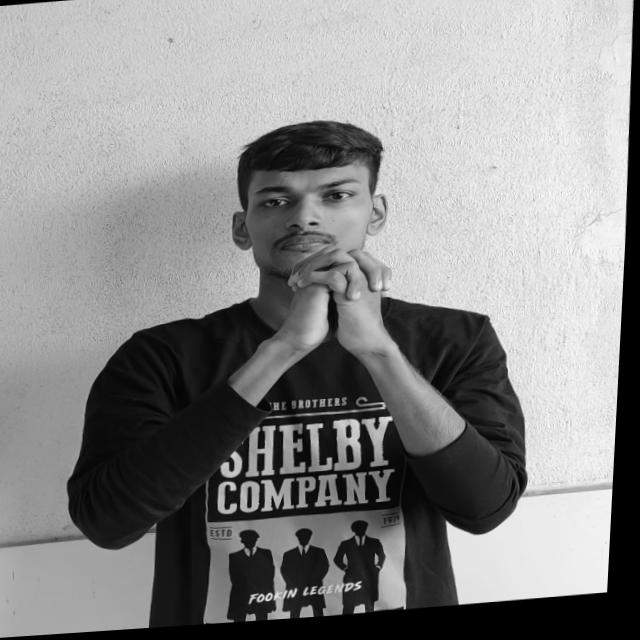Sorry: (287, 247, 401, 351)
